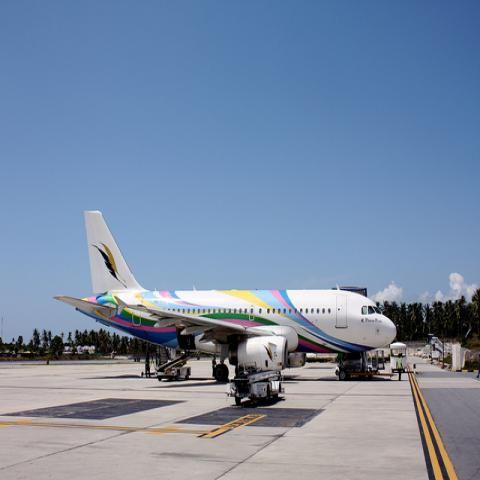truck: (230, 364, 282, 404), (154, 366, 192, 381)
